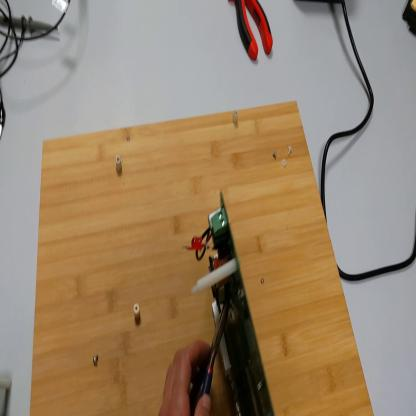hand: (159, 341, 215, 415)
low voltage board: (184, 188, 279, 416)
pliers: (189, 296, 231, 415), (230, 2, 274, 64)
welder base: (404, 3, 416, 37)
working area: (28, 104, 374, 416)
